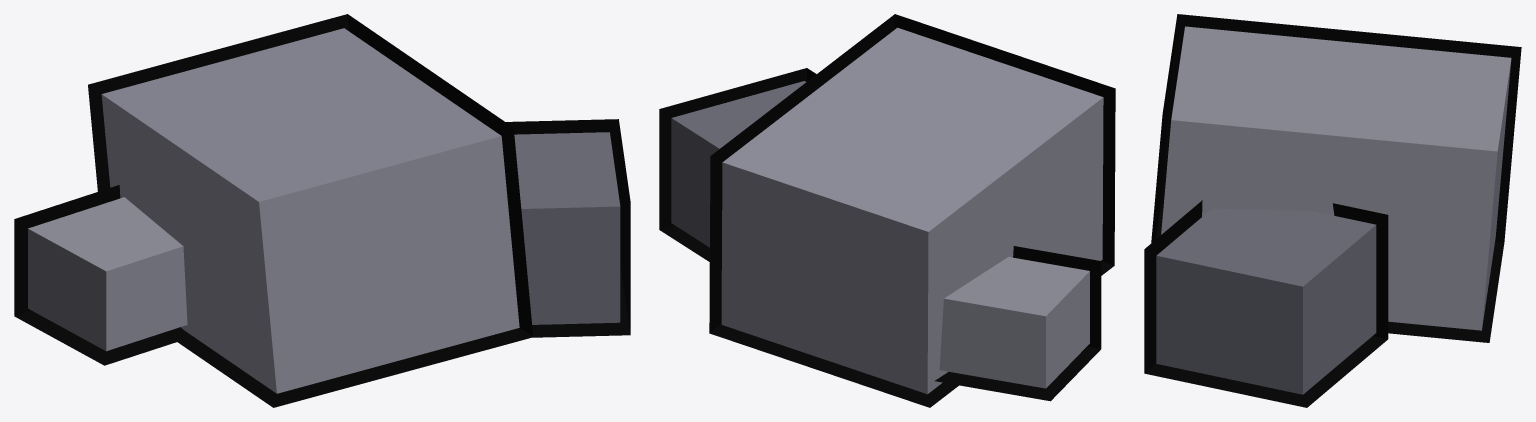
File: Rock_2.fbx
3 views of the same model, side by side, from view 1: azimuth 30°, elevation 25°; view 2: azimuth 150°, elevation 25°; view 3: azimuth 270°, elevation 25° (orthographic). The views are drawn at different scales.
Visible parts, largest first — view 1: Rock_2_Rock, Rock_2_Outline, Rock_2_RockDark; view 2: Rock_2_Rock, Rock_2_Outline, Rock_2_RockDark; view 3: Rock_2_Rock, Rock_2_RockDark, Rock_2_Outline.
Part boxes in pixels (bbox=[...]): Rock_2_Rock: bbox=[28, 28, 519, 393]; Rock_2_Outline: bbox=[14, 14, 630, 407]; Rock_2_RockDark: bbox=[514, 132, 620, 324]; Rock_2_Rock: bbox=[721, 27, 1103, 394]; Rock_2_Outline: bbox=[659, 14, 1115, 407]; Rock_2_RockDark: bbox=[671, 81, 806, 247]; Rock_2_Rock: bbox=[1161, 26, 1511, 330]; Rock_2_RockDark: bbox=[1156, 208, 1376, 394]; Rock_2_Outline: bbox=[1144, 14, 1521, 407].
Bounding box in the file's own units: 7.47 × 3.4 × 5.06.
Materials: 3 (3 with a texture image).
